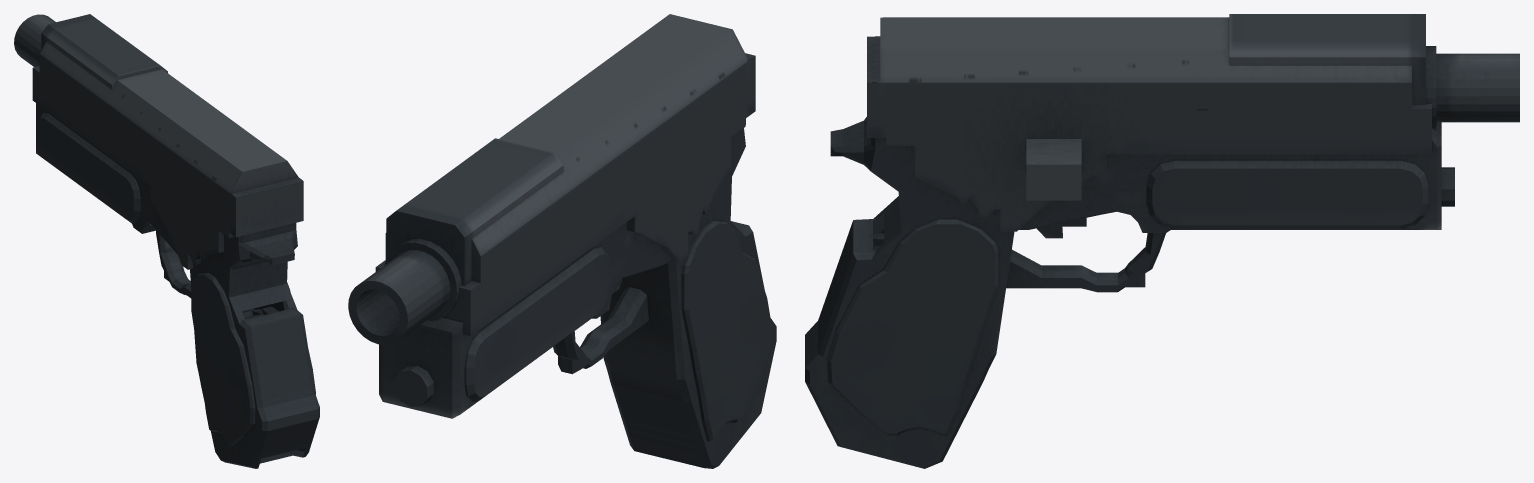
File: pistol.glb
3 views of the same model, side by side, from view 1: azimuth 30°, elevation 25°; view 2: azimuth 150°, elevation 25°; view 3: azimuth 270°, elevation 25° (orthographic). The views are drawn at different scales.
Visible parts, largest first — view 1: SlidingBolt, pistol; view 2: SlidingBolt, pistol; view 3: SlidingBolt, pistol, ChargingHandle.
Boxes of the visible parts, <box> form: SlidingBolt: <box>14,14,303,269</box>; pistol: <box>36,103,319,468</box>; SlidingBolt: <box>348,14,755,386</box>; pistol: <box>379,137,776,468</box>; SlidingBolt: <box>830,14,1519,204</box>; pistol: <box>805,140,1454,468</box>; ChargingHandle: <box>1026,139,1081,200</box>.
Size of the model in its own units: 0.1069 by 0.2945 by 0.45.
Materials: 1 (1 with a texture image).
